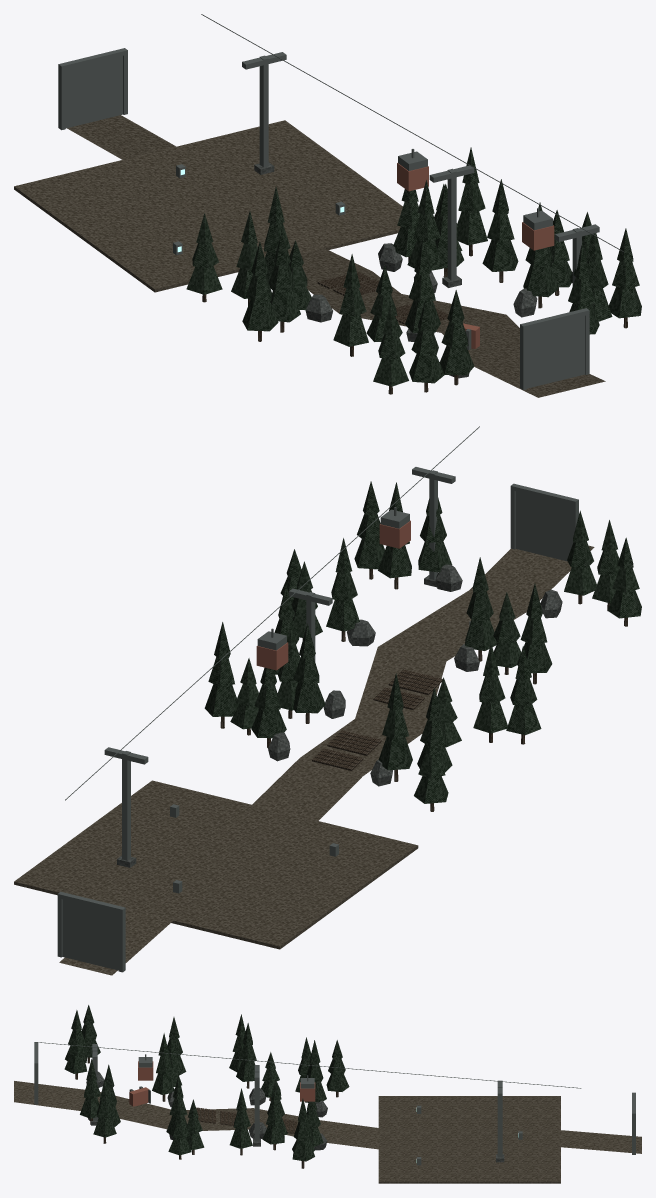
Rendered from PH03_Route_B.fbx.
3 views of the same model, one above another, from view 1: azimuth 30°, elevation 25°; view 2: azimuth 150°, elevation 25°; view 3: azimuth 270°, elevation 25° (orthographic). The views are drawn at different scales.
Parts seen in each view (by area): view 1: B_CombatPocket_20x18, B_TraversalSurface, B_Front_OpaqueSeal, B_Rear_OpaqueSeal, B_ExitApproach, Forest_Spruce.047, Forest_Spruce.044, Forest_Spruce.038, Forest_Spruce.035, Forest_Spruce.053, Forest_Spruce.030, Forest_Spruce.031 (+25 smaller); view 2: B_CombatPocket_20x18, B_TraversalSurface, B_Rear_OpaqueSeal, B_Front_OpaqueSeal, Forest_Spruce.048, Forest_Spruce.053, Forest_Spruce.036, B_ExitApproach, Forest_Spruce.039, Forest_Spruce.045, Forest_Spruce.043, Forest_Spruce.044 (+22 smaller); view 3: B_CombatPocket_20x18, B_TraversalSurface, B_ExitApproach, Forest_Spruce.053, Forest_Spruce.036, Forest_Spruce.047, Forest_Spruce.035, Forest_Spruce.043, Forest_Spruce.046, Forest_Spruce.030, Forest_Spruce.033, Forest_Spruce.050 (+19 smaller).
Part boxes in pixels (box(x1,y1,x2,y2)): B_CombatPocket_20x18: box(14, 120, 402, 292); B_TraversalSurface: box(301, 248, 605, 397); B_Front_OpaqueSeal: box(527, 316, 584, 388); B_Rear_OpaqueSeal: box(65, 56, 122, 128); B_ExitApproach: box(67, 115, 175, 159); Forest_Spruce.047: box(482, 179, 518, 282); Forest_Spruce.044: box(242, 241, 278, 341); Forest_Spruce.038: box(333, 254, 368, 356); Forest_Spruce.035: box(608, 228, 641, 328); Forest_Spruce.053: box(456, 147, 487, 256); Forest_Spruce.030: box(439, 290, 474, 385); Forest_Spruce.031: box(409, 299, 444, 392); B_CombatPocket_20x18: box(14, 780, 418, 949); B_TraversalSurface: box(252, 545, 594, 820); B_Rear_OpaqueSeal: box(62, 899, 118, 970); B_Front_OpaqueSeal: box(515, 491, 571, 561); Forest_Spruce.048: box(378, 673, 412, 781); Forest_Spruce.053: box(204, 622, 238, 728); Forest_Spruce.036: box(465, 557, 497, 661); B_ExitApproach: box(59, 909, 173, 975); Forest_Spruce.039: box(326, 538, 359, 641); Forest_Spruce.045: box(293, 623, 325, 723); Forest_Spruce.043: box(473, 643, 507, 742); Forest_Spruce.044: box(506, 646, 541, 744); B_CombatPocket_20x18: box(378, 1096, 560, 1183); B_TraversalSurface: box(14, 1081, 378, 1149); B_ExitApproach: box(561, 1130, 641, 1153); Forest_Spruce.053: box(292, 1098, 314, 1168); Forest_Spruce.036: box(152, 1033, 174, 1101); Forest_Spruce.047: box(229, 1088, 252, 1155); Forest_Spruce.035: box(93, 1079, 116, 1143); Forest_Spruce.043: box(236, 1023, 256, 1088); Forest_Spruce.046: box(262, 1089, 284, 1150); Forest_Spruce.030: box(64, 1018, 87, 1079); Forest_Spruce.033: box(80, 1059, 100, 1124); Forest_Spruce.050: box(326, 1040, 349, 1097).
Bounding box in the file's own units: 2305 × 1360 × 6200.
8 materials, 5 textured.
